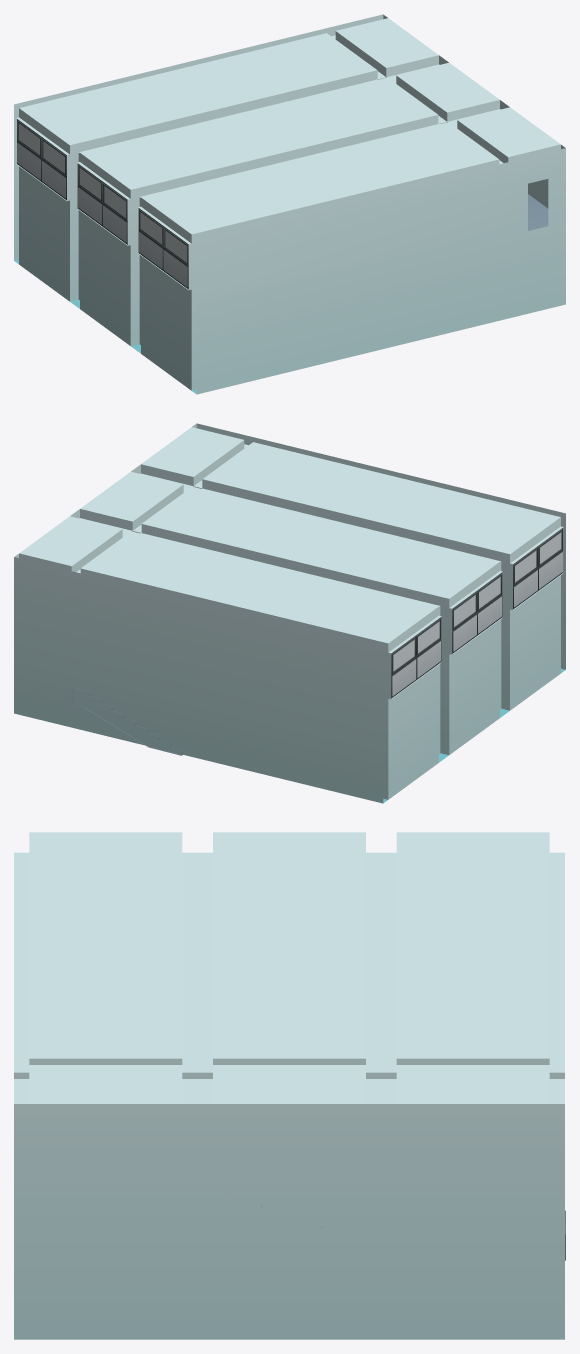
File: Lab Oud.fbx
3 renders of one model, top to bottom at view 1: azimuth 30°, elevation 25°; view 2: azimuth 150°, elevation 25°; view 3: azimuth 270°, elevation 25°, orthographic. The views are drawn at different scales.
Parts seen in each view (by area): view 1: pPlane7; view 2: pPlane7; view 3: pPlane7.
Part boxes in pixels (bbox=[...]): pPlane7: bbox=[14, 14, 565, 394]; pPlane7: bbox=[14, 423, 565, 803]; pPlane7: bbox=[14, 832, 565, 1339].
Size of the model in its own units: 21.17 by 8.56 by 18.03.
Materials: 2 (1 with a texture image).
